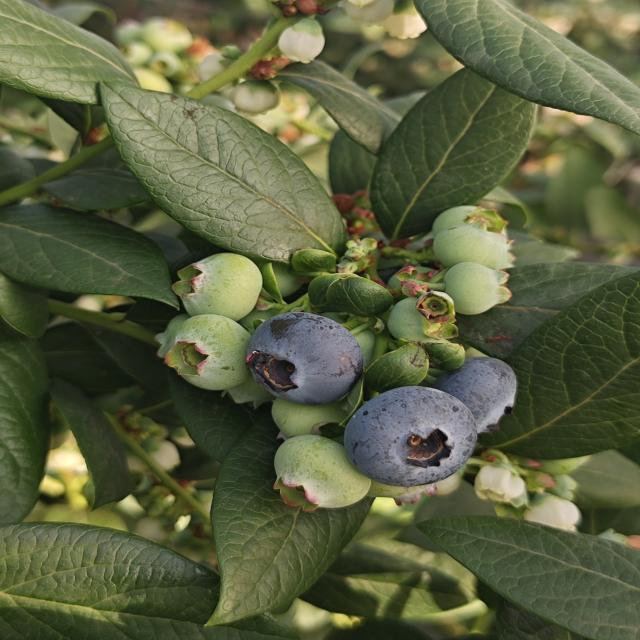ripe: (341, 384, 480, 489), (243, 310, 366, 407), (444, 348, 522, 437)
